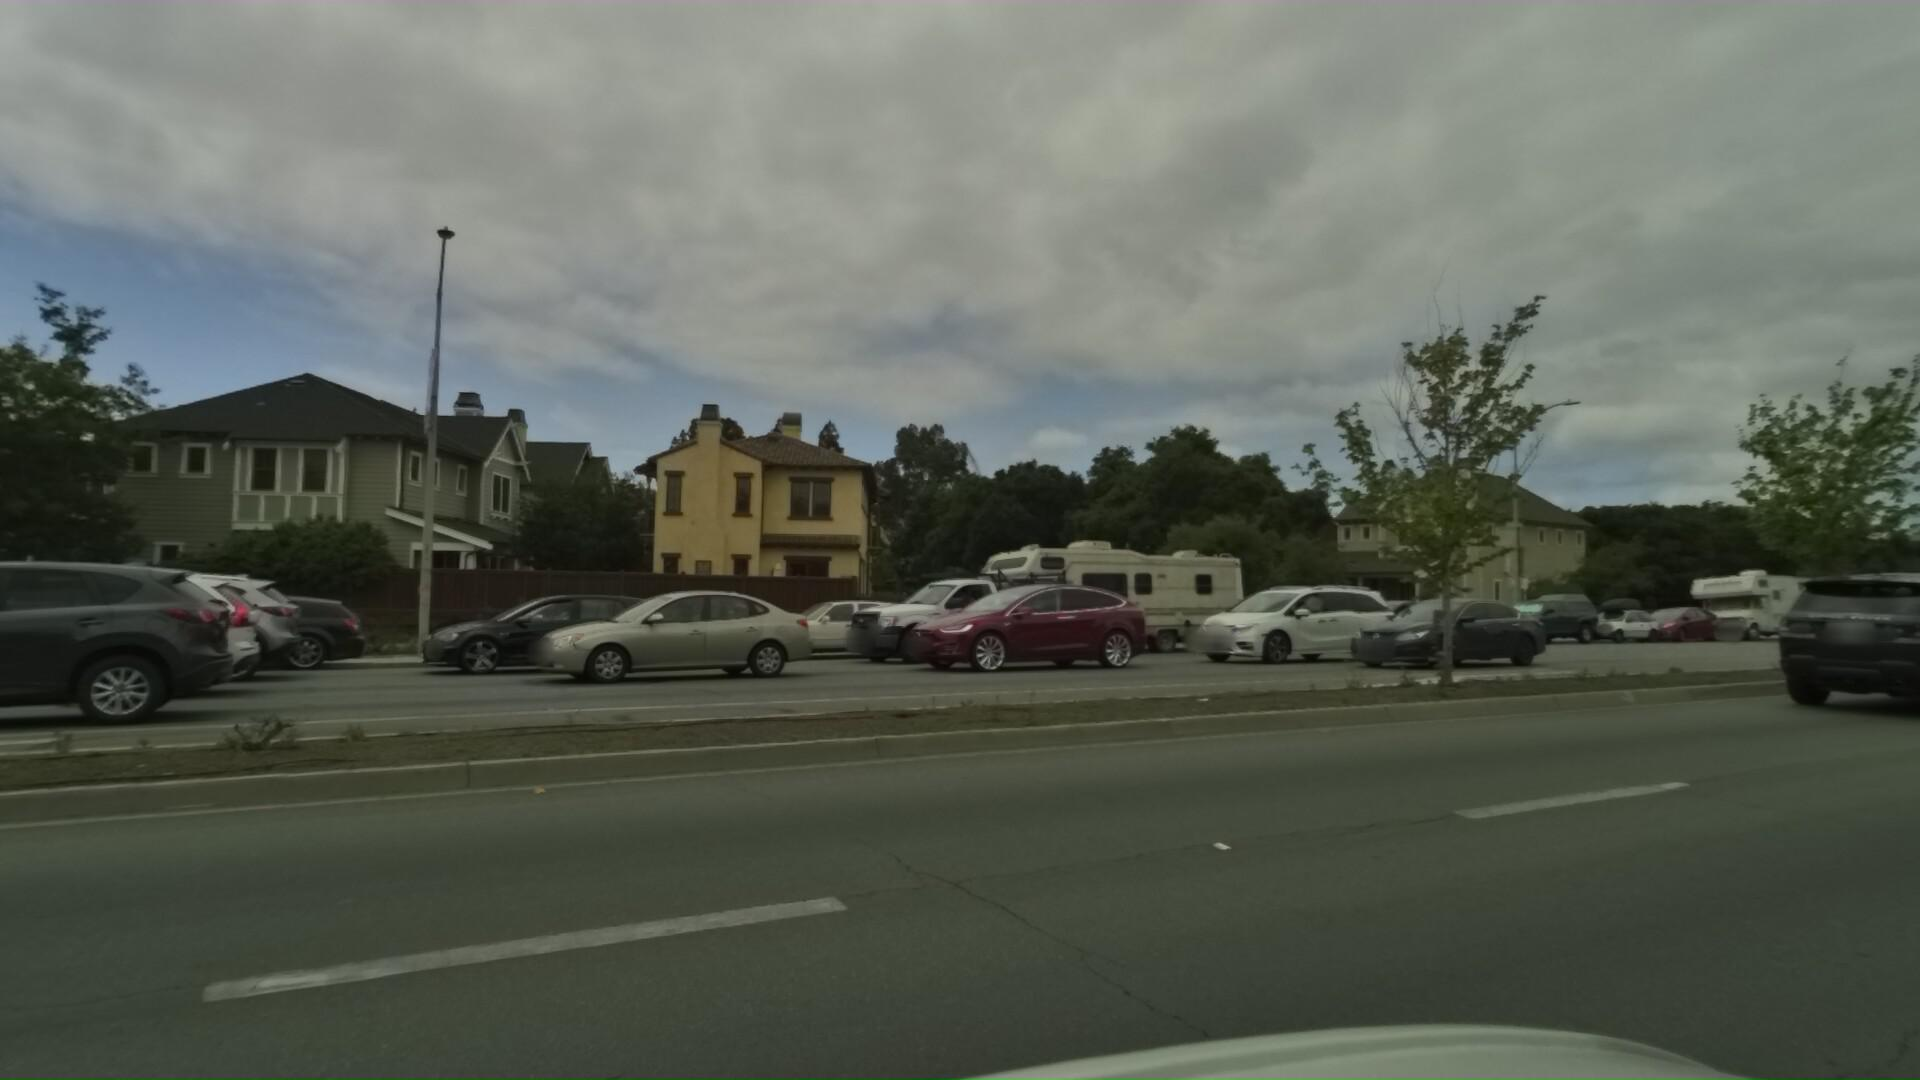car: (0, 542, 200, 765), (0, 535, 237, 723), (0, 546, 278, 696), (489, 571, 808, 688), (0, 582, 348, 678), (1734, 556, 1920, 733), (808, 547, 1079, 665), (864, 568, 1153, 674), (380, 584, 655, 674), (1155, 566, 1399, 659), (1300, 588, 1542, 671), (687, 592, 899, 667), (1465, 579, 1596, 640), (1553, 587, 1659, 640), (1611, 592, 1720, 633)
other_vehicle: (938, 513, 1247, 653), (1669, 556, 1822, 632), (1869, 558, 1920, 628)
